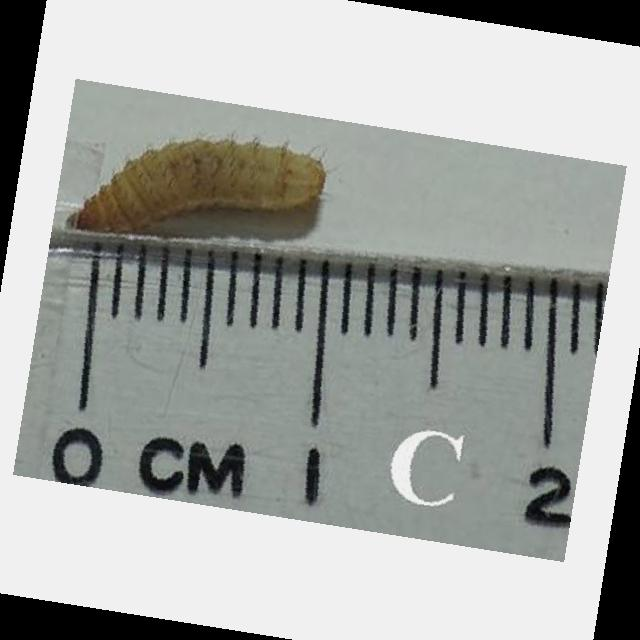Maggot: (72, 141, 337, 233)
